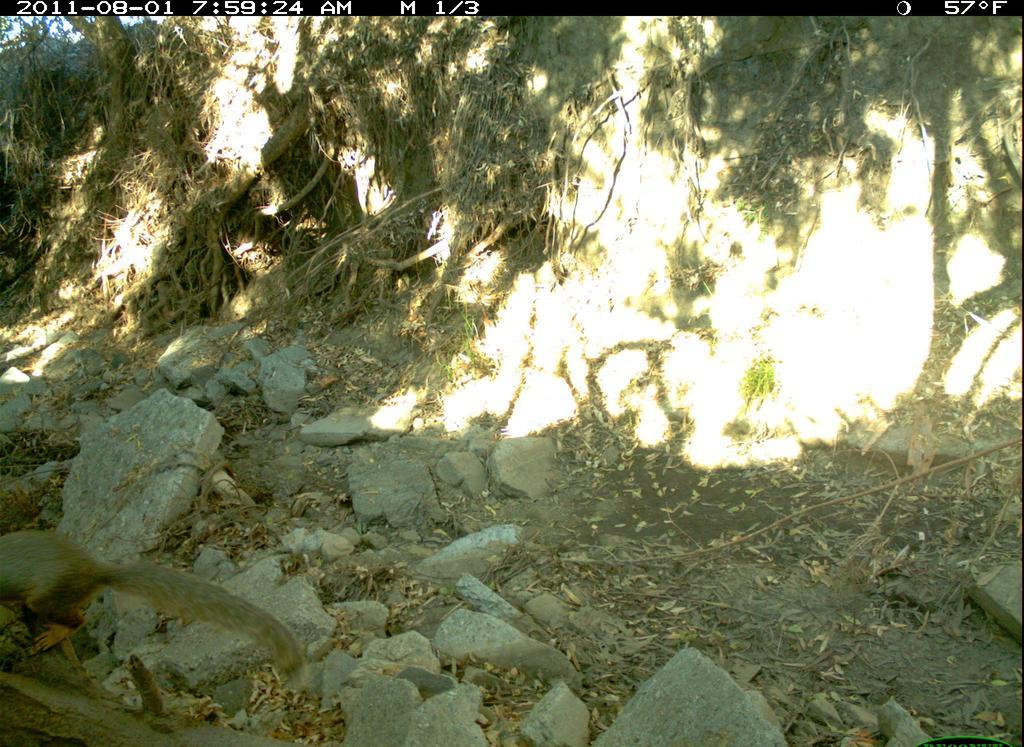squirrel: (3, 520, 327, 701)
